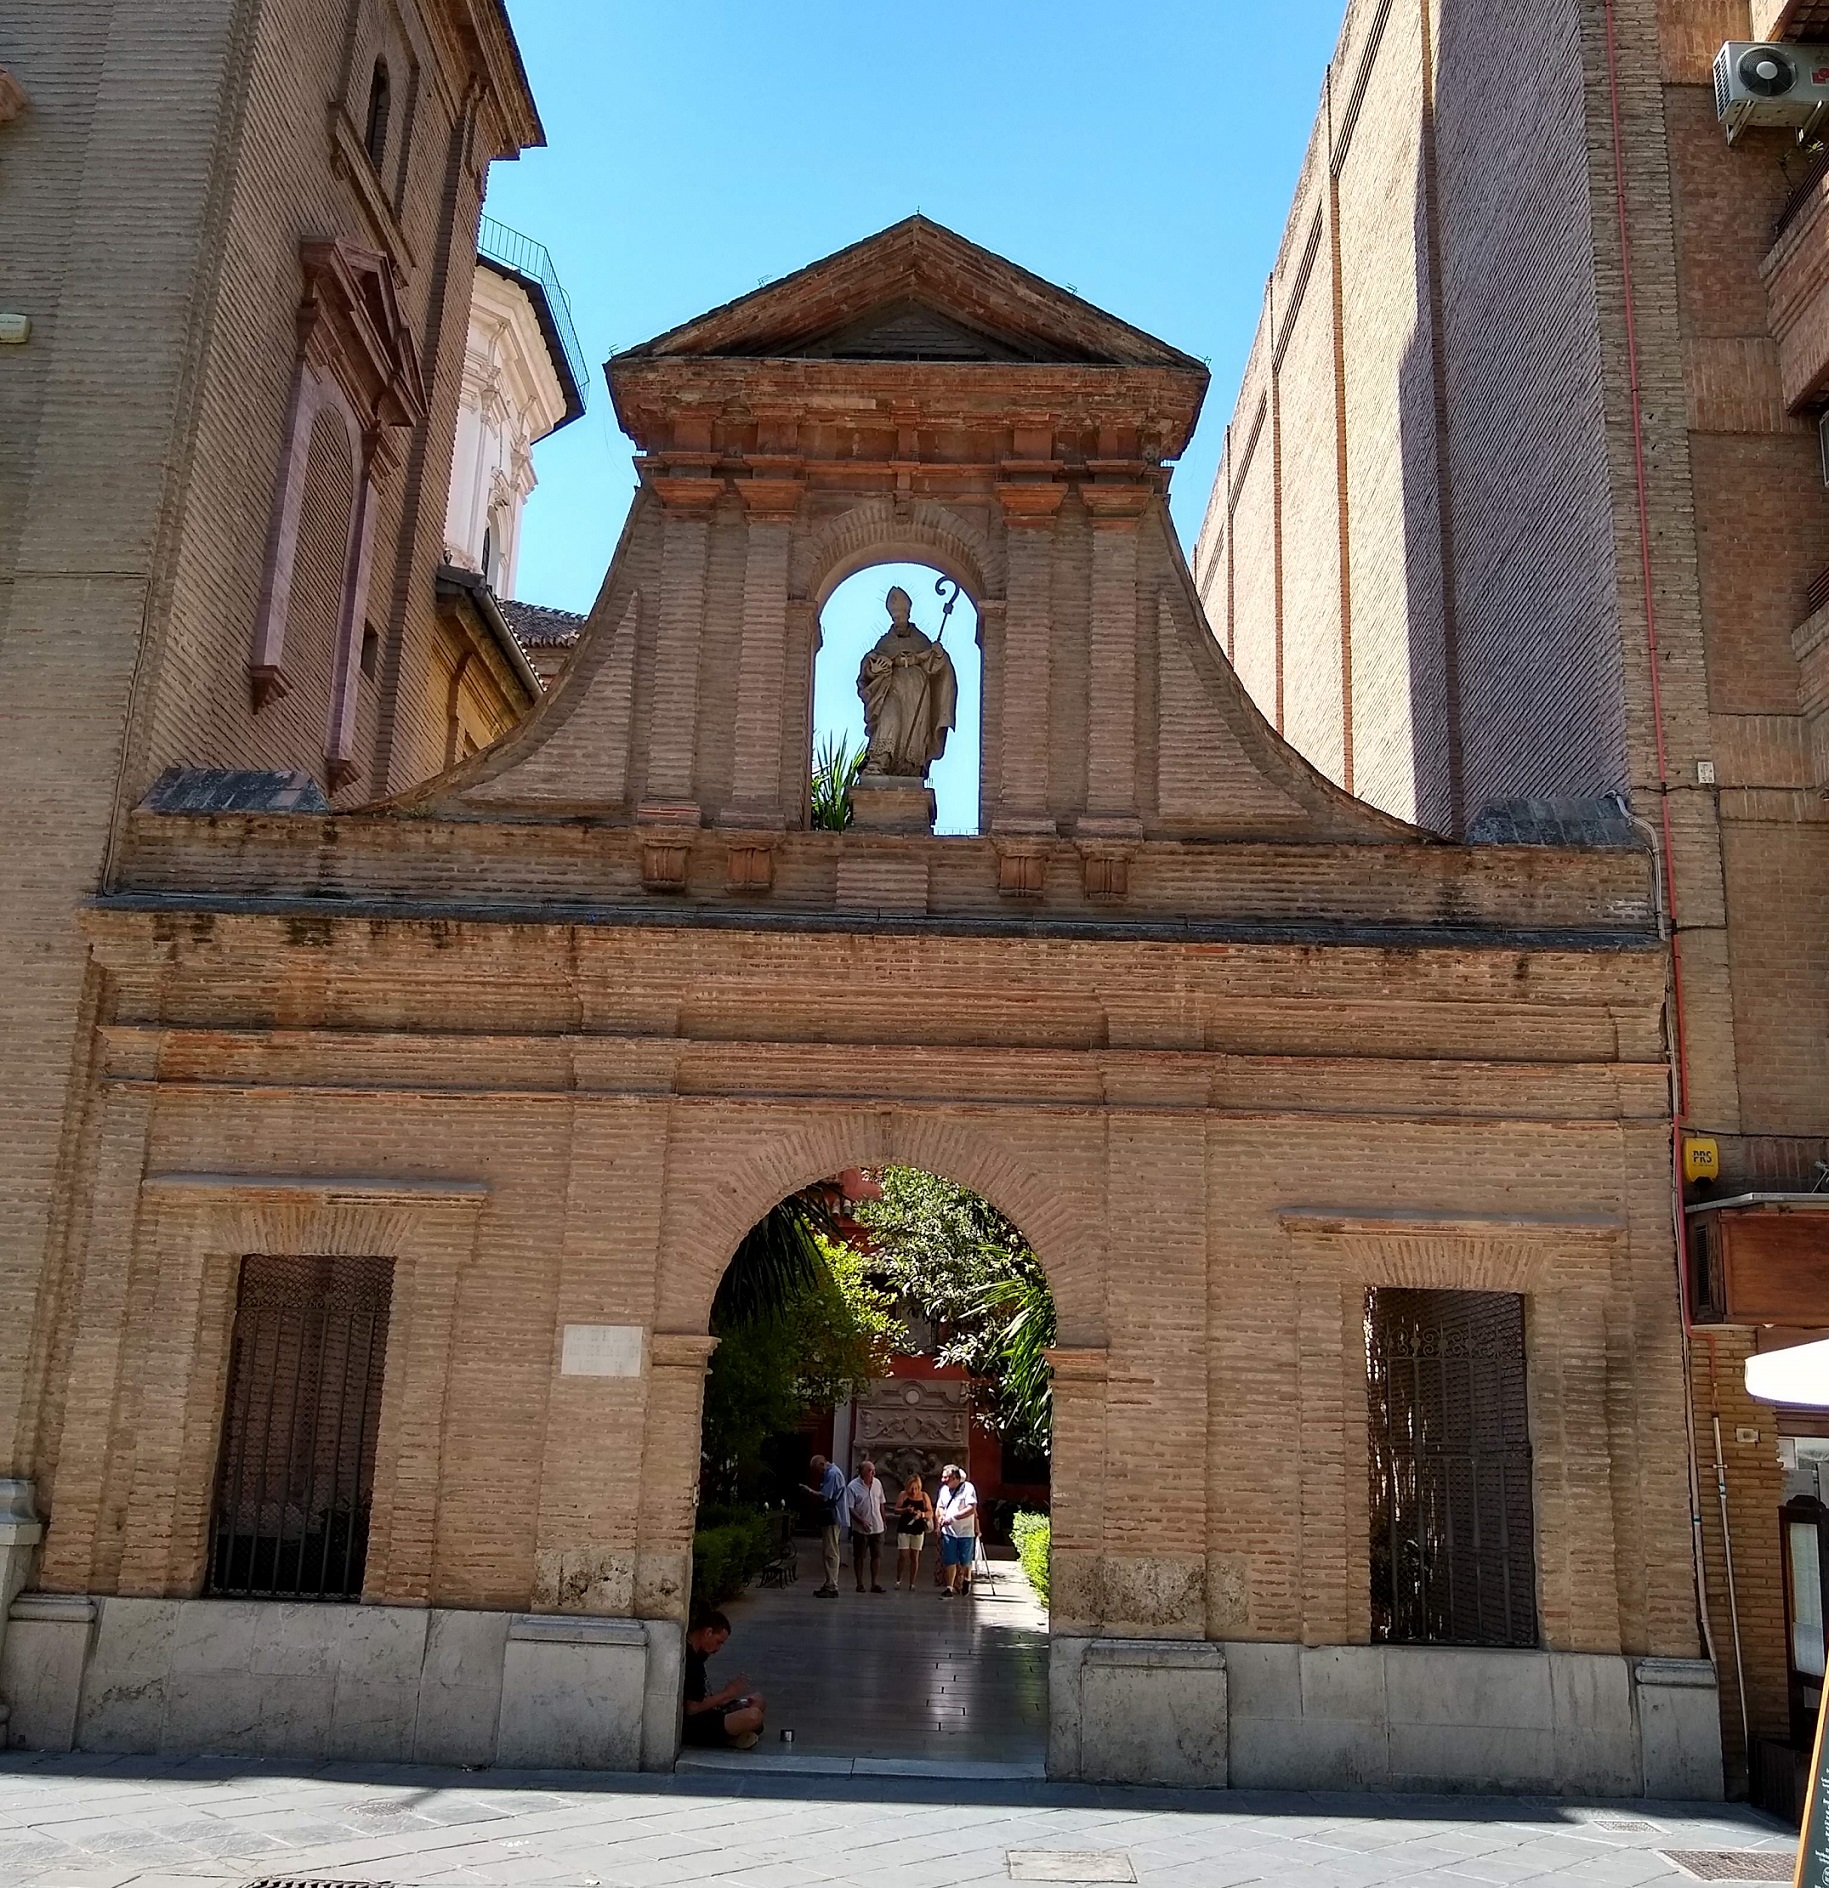arco-medio-punto: (689, 1151, 1082, 1426), (804, 512, 996, 651)
fronton: (600, 196, 1220, 401)
vano-adintelado: (1273, 1195, 1606, 1657), (131, 1178, 487, 1606)
